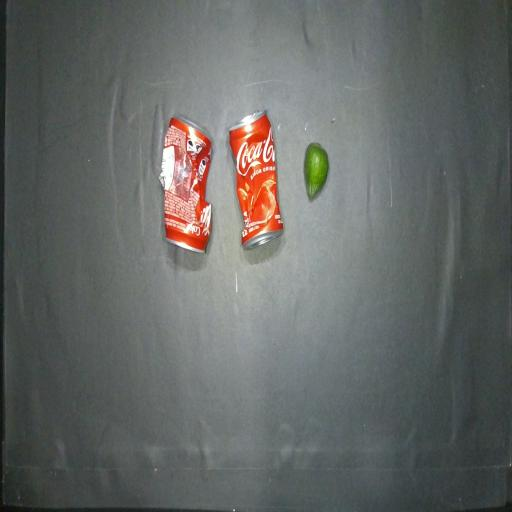higo: (304, 142, 329, 199)
lata_defectuoso: (229, 111, 283, 249), (159, 116, 212, 253)
